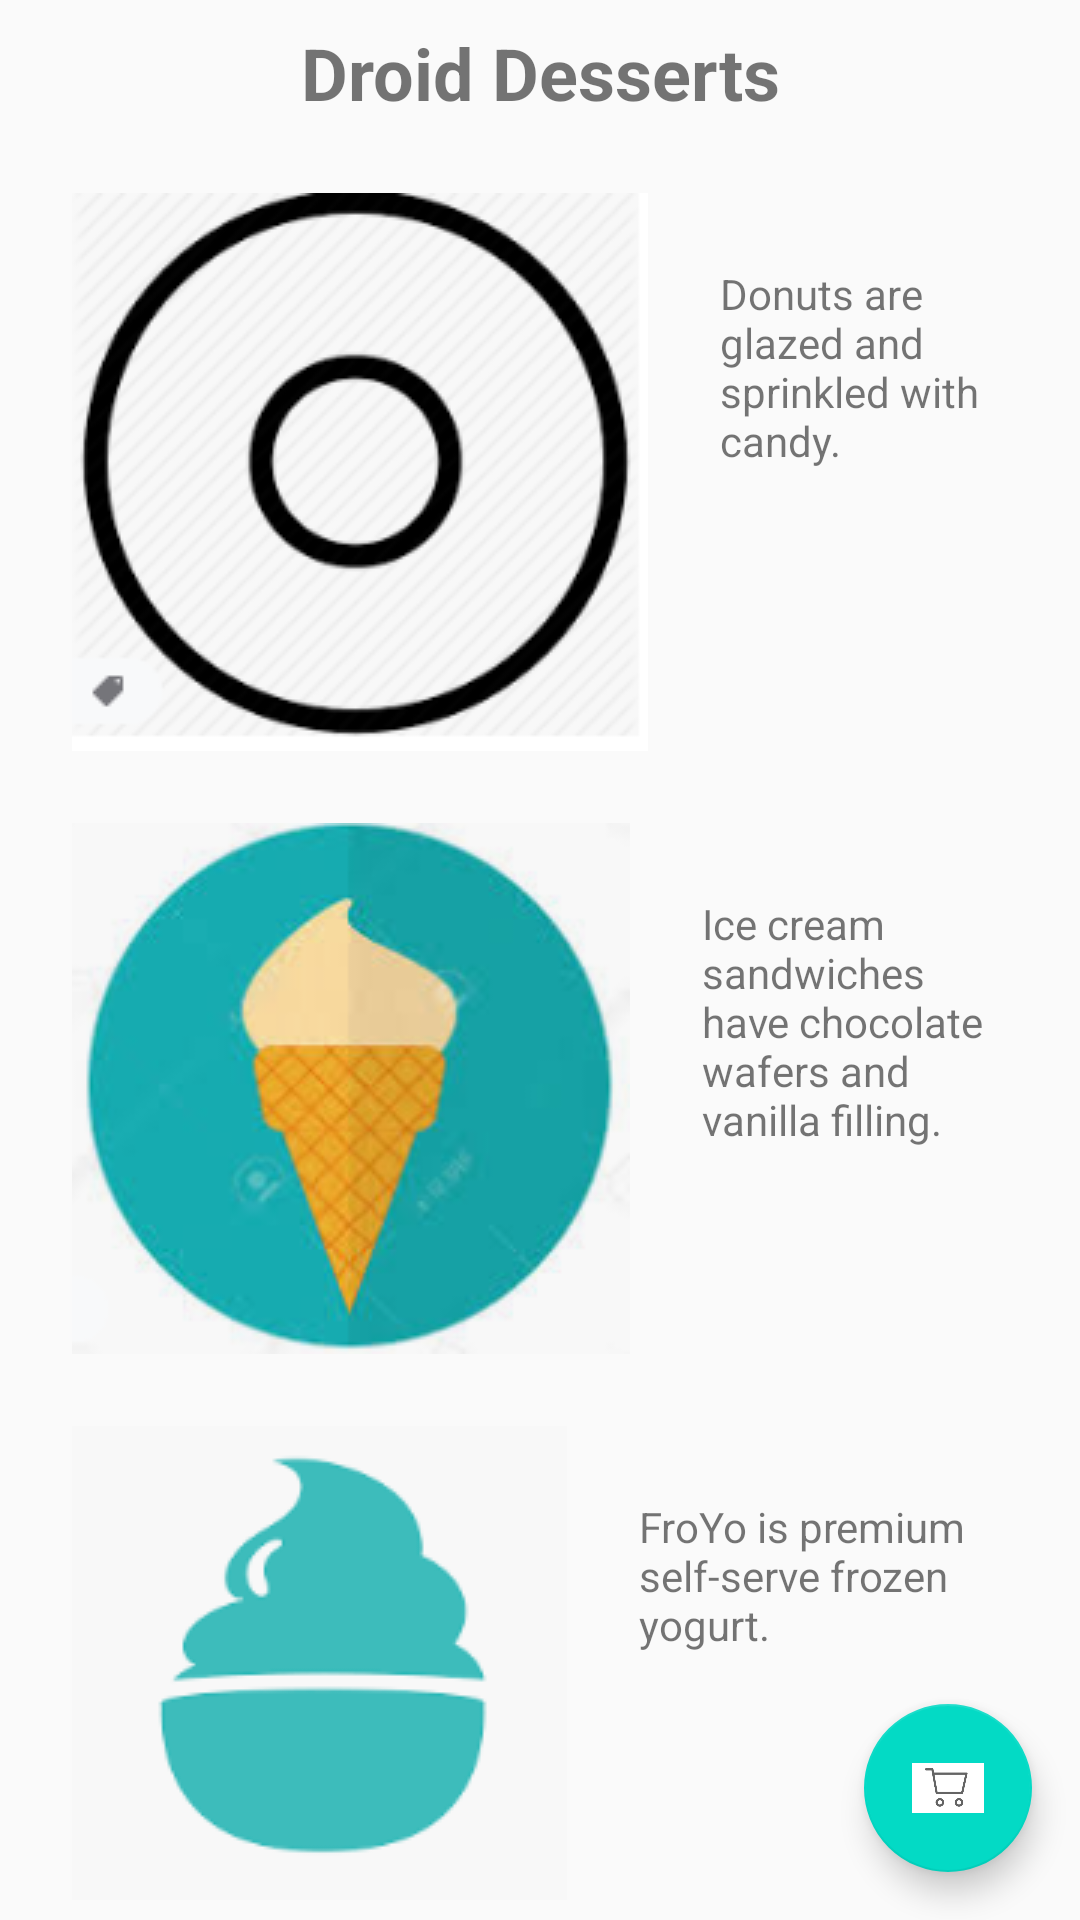

Icon click points for this 1080px×1920px phone screenshot, format [x,y]:
shopping cart: [948,1788]
